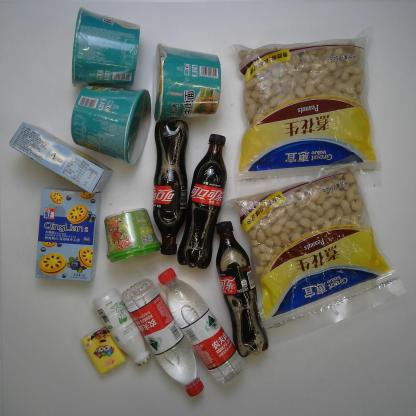Dessert: (8, 120, 115, 194), (34, 187, 102, 283)
Dried Food: (220, 168, 409, 347), (226, 26, 384, 194)
Drink: (157, 268, 247, 386), (119, 277, 205, 398), (212, 218, 271, 358), (174, 133, 230, 270), (148, 118, 191, 257)
Instant Drink: (102, 207, 162, 264)
Instant Noodles: (70, 84, 153, 167), (69, 6, 142, 87), (151, 42, 224, 123)
Milk: (90, 288, 152, 368)
Tissue: (79, 325, 127, 376)
